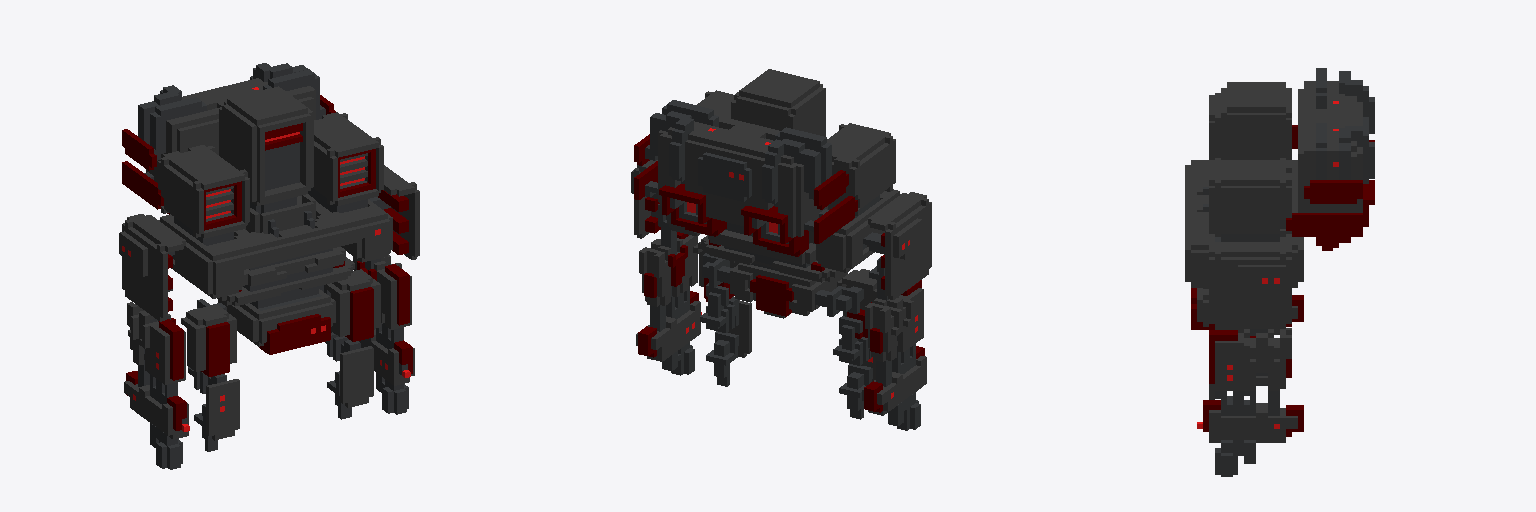
The picture shows the model from 3 angles: view 1: azimuth 30°, elevation 25°; view 2: azimuth 150°, elevation 25°; view 3: azimuth 270°, elevation 25°; orthographic projection.
Visible parts, largest first — view 1: object 1; view 2: object 1; view 3: object 1.
Boxes of the visible parts, box(x1,y1,x2,y2) form: object 1: box(119, 63, 419, 469); object 1: box(631, 69, 931, 430); object 1: box(1185, 68, 1374, 476).
Bounding box in the file's own units: 5.2 × 6 × 3.2.
1 materials, 1 textured.